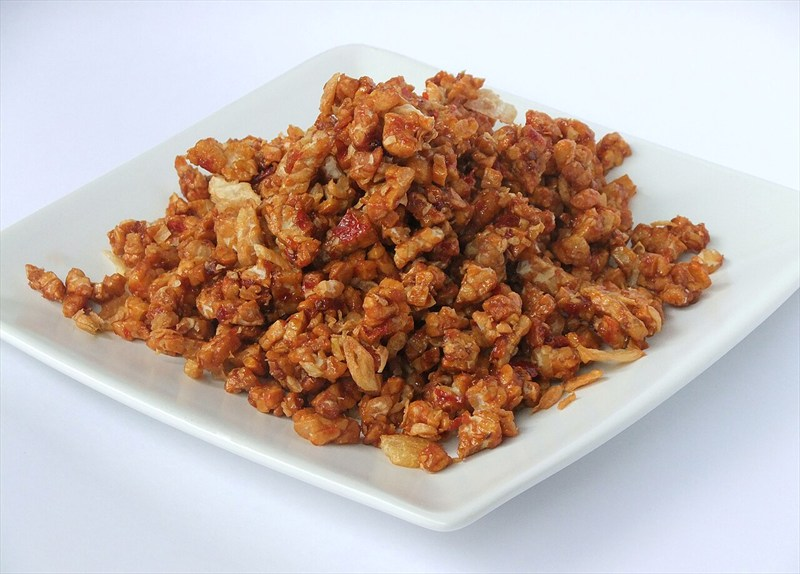Tempe Goreng: (117, 99, 663, 441)
